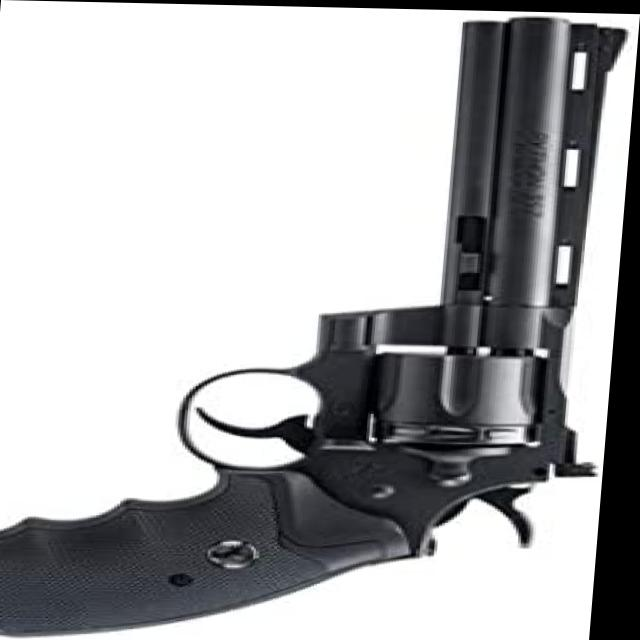handgun: (0, 5, 631, 640)
